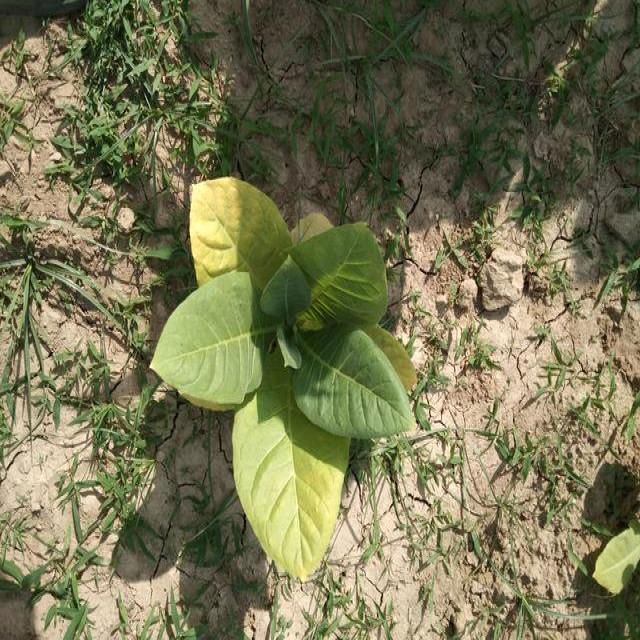crop: (149, 154, 427, 584)
